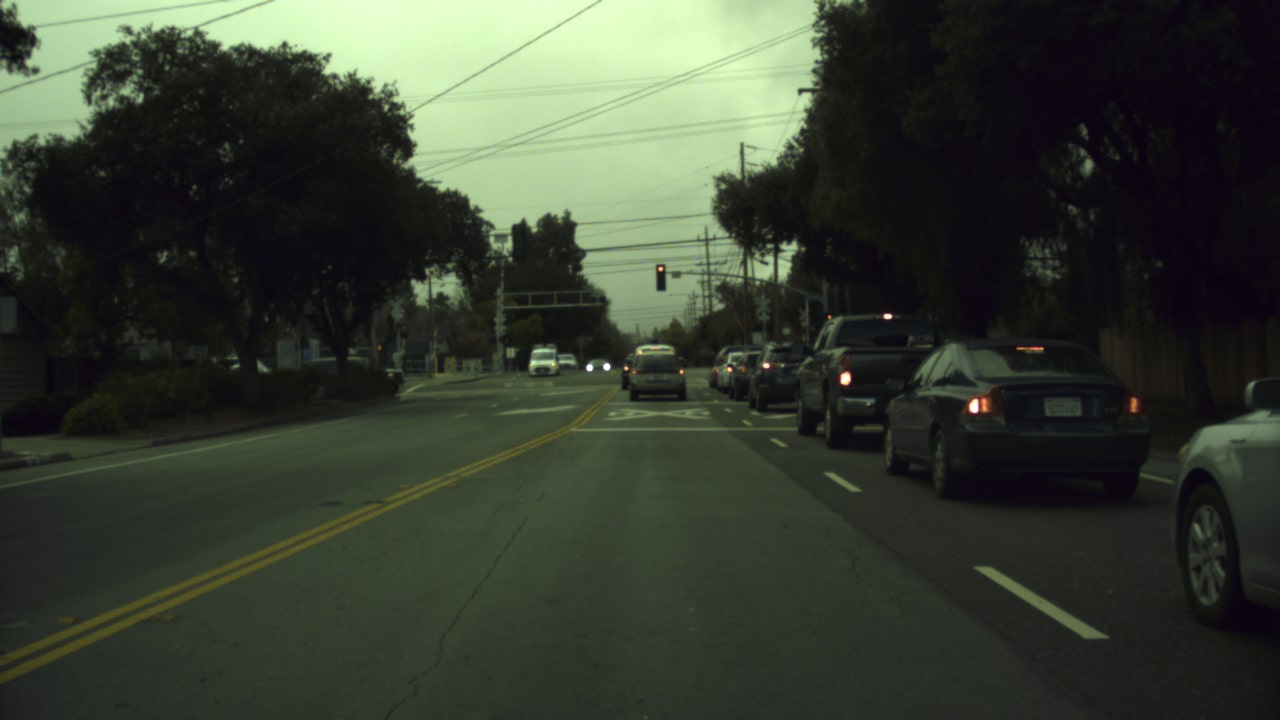signal: (654, 262, 668, 289)
